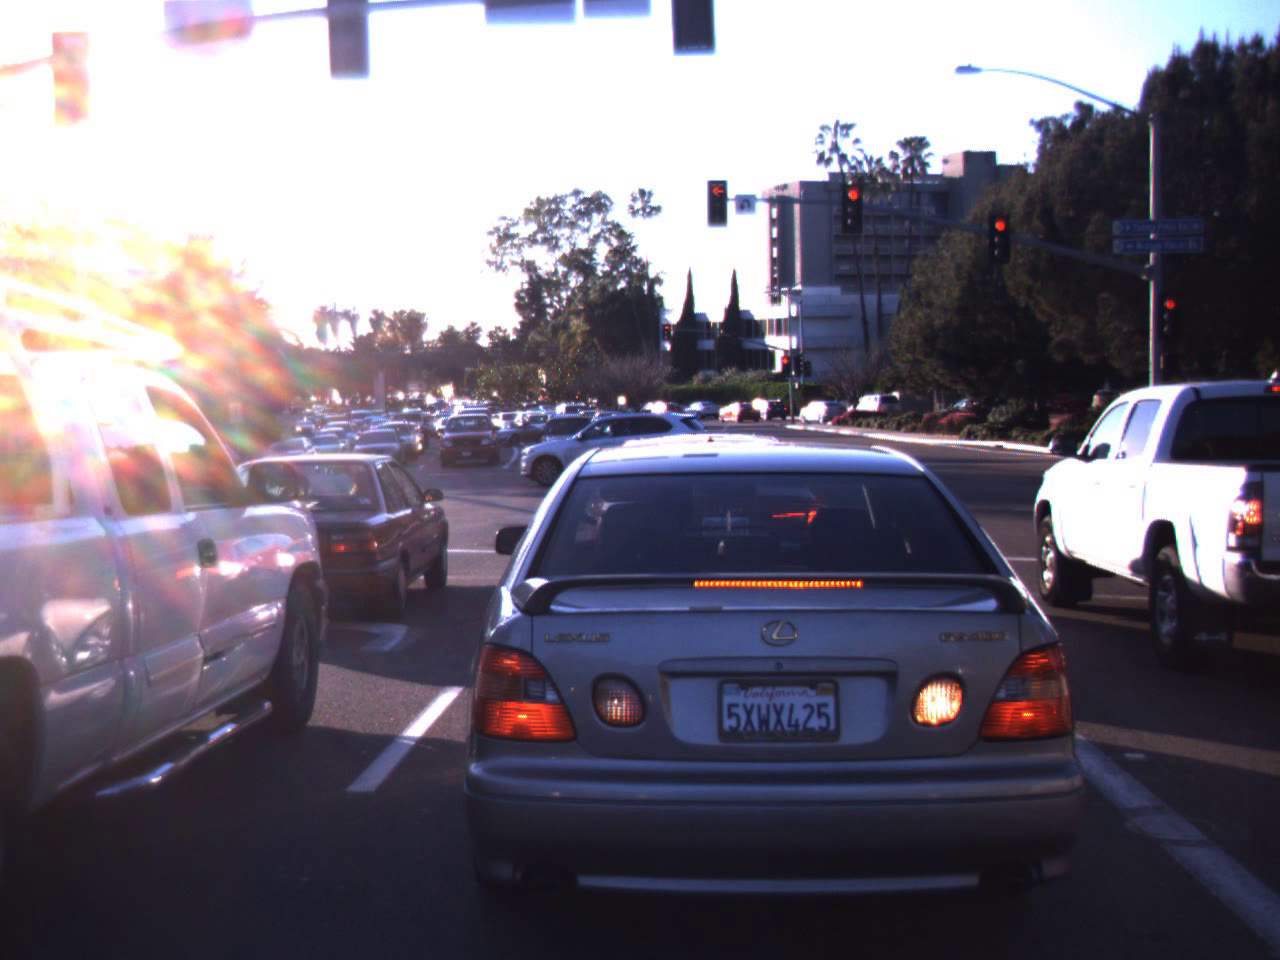Traffic_Light_stop: (842, 186, 865, 241), (986, 214, 1004, 258), (711, 182, 729, 224)
